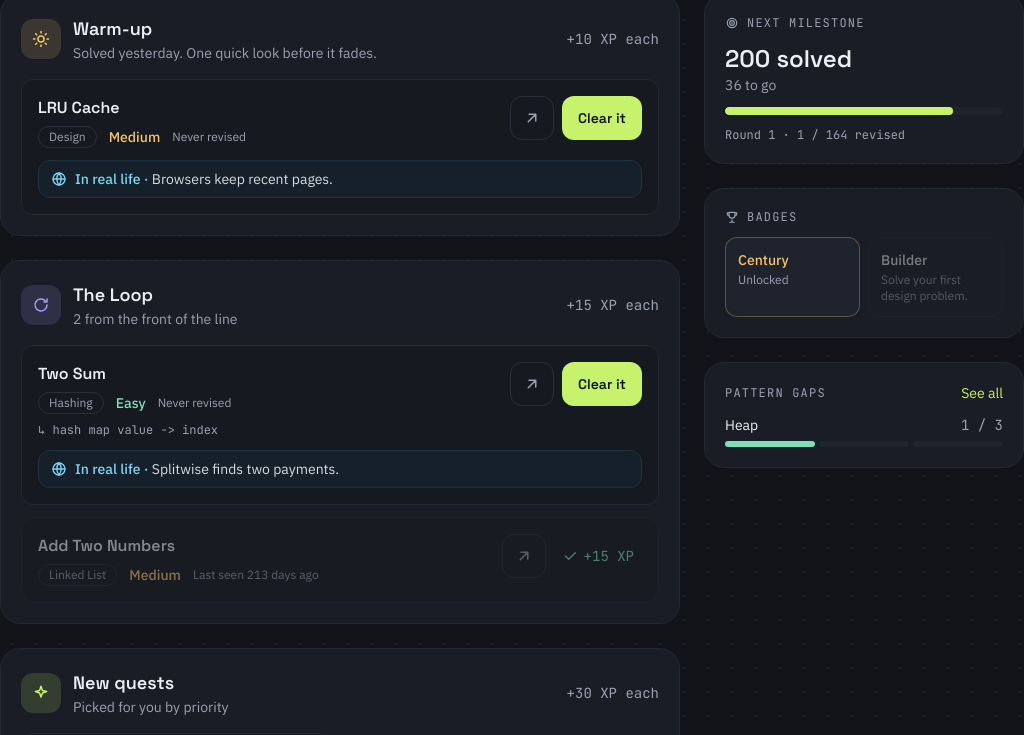
Scenario: Today page › "Clear it" marks the problem done, shows a toast and refreshes
(page scrolled)
Click the button "Clear it" in the row of "Two Sum". click: x=602, y=384
box: [562,362,642,406]
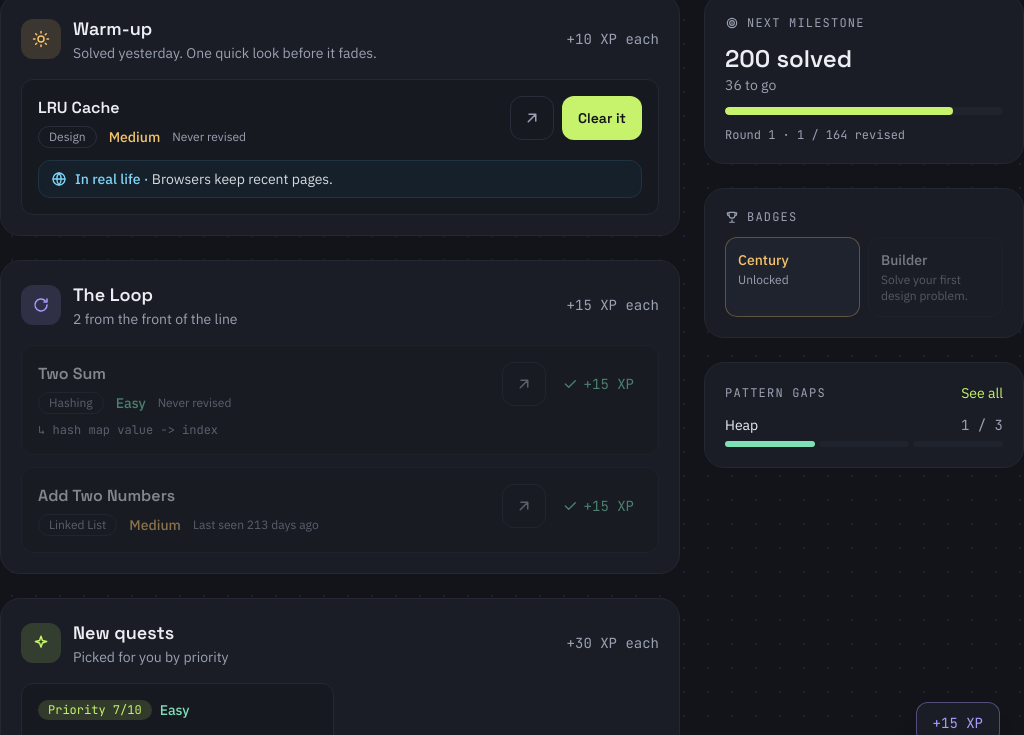
Expected: the message reads "+15 XP", [933,714,983,732]
Expected: the text "+15 XP" in the row of "Two Sum" is shown, [562,375,634,393]
